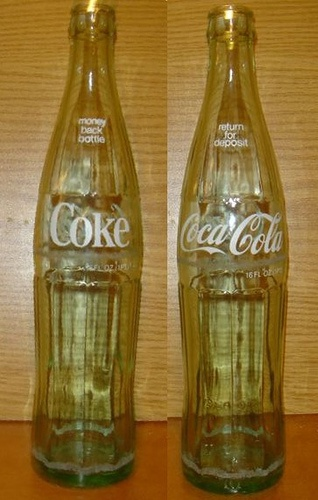emptybottle: (177, 4, 286, 496), (32, 1, 137, 488)
